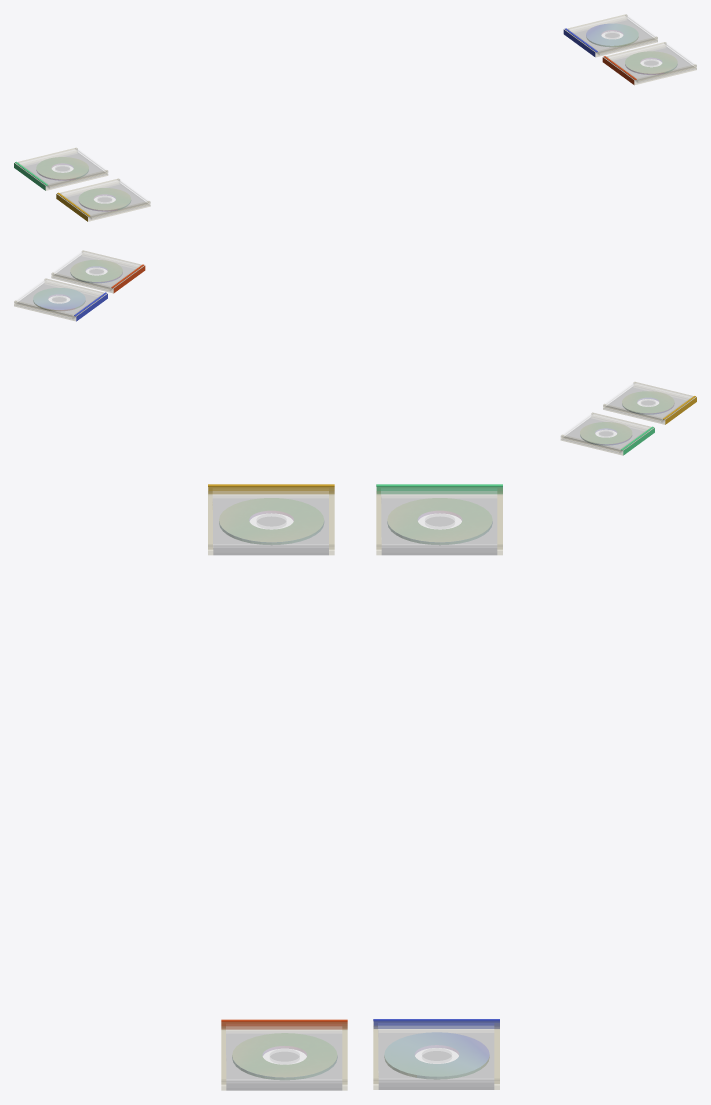
File: Disc.glb
3 views of the same model, one above another, from view 1: azimuth 30°, elevation 25°; view 2: azimuth 150°, elevation 25°; view 3: azimuth 270°, elevation 25° (orthographic). The views are drawn at different scales.
Parts seen in each view (by area): view 1: CASE1, CASE4, CASE2, CASE3, CD10, CD20, CD30, CD40; view 2: CASE1, CASE2, CASE3, CASE4, CD30, CD10, CD20, CD40; view 3: CASE1, CASE2, CASE3, CASE4, CD40, CD30, CD10, CD20.
Boxes of the visible parts, x1,y1,x2,y2 form: CASE1: [602, 42, 696, 85]; CASE4: [563, 14, 657, 57]; CASE2: [56, 178, 150, 221]; CASE3: [14, 148, 107, 190]; CD10: [625, 51, 677, 74]; CD20: [78, 188, 131, 211]; CD30: [36, 157, 88, 180]; CD40: [586, 23, 638, 47]; CASE1: [51, 250, 145, 293]; CASE2: [603, 382, 696, 424]; CASE3: [561, 412, 654, 455]; CASE4: [14, 278, 107, 321]; CD30: [580, 422, 632, 445]; CD10: [70, 259, 122, 283]; CD20: [622, 391, 674, 414]; CD40: [33, 288, 85, 311]; CASE1: [221, 1019, 347, 1090]; CASE2: [208, 484, 334, 554]; CASE3: [376, 484, 502, 554]; CASE4: [373, 1019, 499, 1089]; CD40: [384, 1032, 489, 1079]; CD30: [387, 498, 492, 544]; CD10: [232, 1033, 337, 1079]; CD20: [219, 498, 324, 544].
Size of the model in its own units: 7.01 by 0.06 by 1.46.
Materials: 8 (1 with a texture image).
